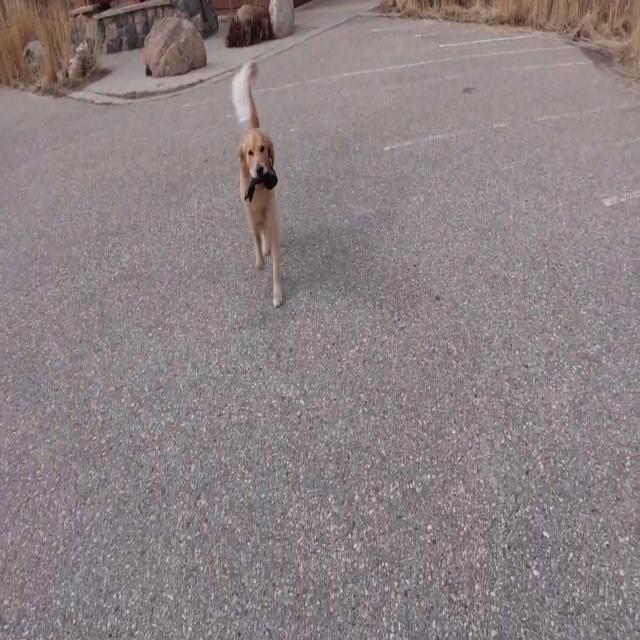Dog: (232, 60, 283, 306)
